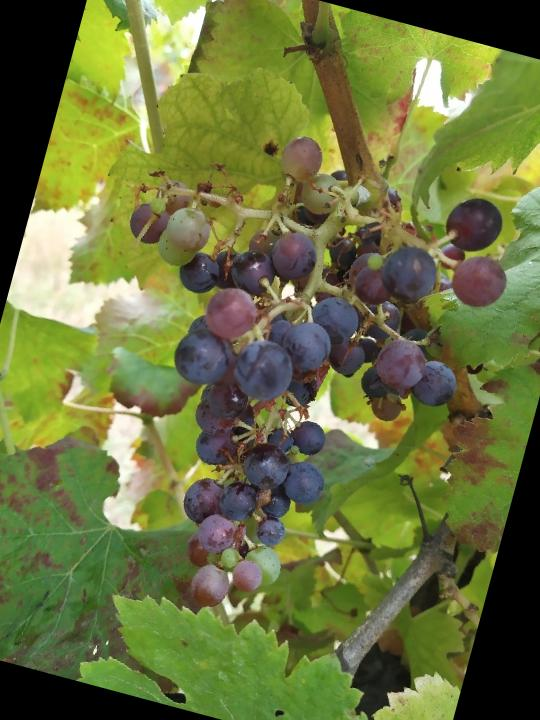grape: (36, 101, 530, 661)
